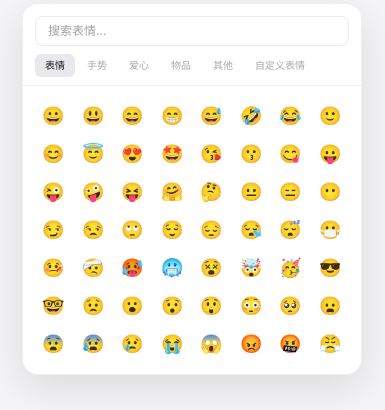
Scenario: EmojiPicker › switching to Hearts category shows heart emojis
// Click the Hearts tab
What coordinates should you click on to do the following:
click the button "爱心"
I would click on:
 (139, 66)
Its box is [119, 54, 159, 77].
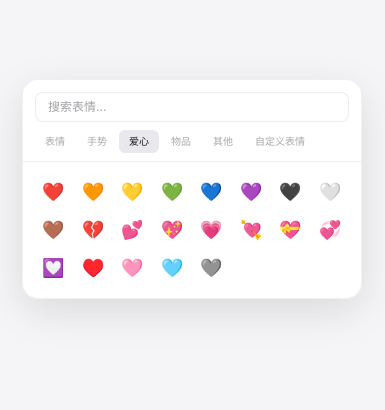
Now the button "❤️" is shown, box [35, 174, 71, 210]
Now the button "💕" is shown, box [114, 212, 150, 248]
